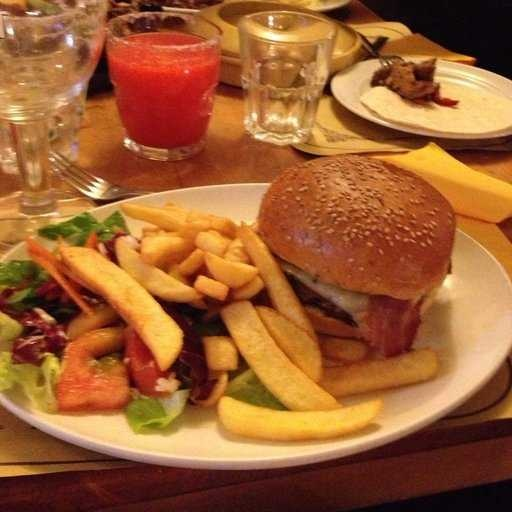hamburger: (258, 165, 439, 327)
